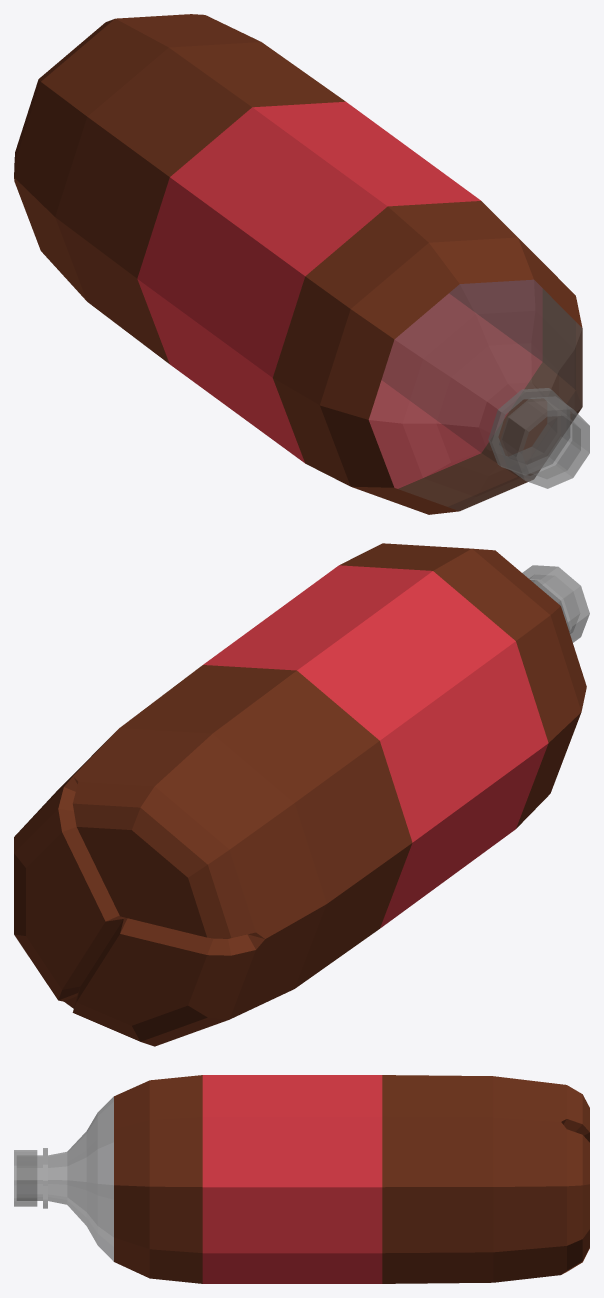
File: SodaBottle.fbx
3 views of the same model, one above another, from view 1: azimuth 30°, elevation 25°; view 2: azimuth 150°, elevation 25°; view 3: azimuth 270°, elevation 25° (orthographic). The views are drawn at different scales.
Visible parts, largest first — view 1: Object_2; view 2: Object_2; view 3: Object_2.
Part boxes in pixels (x1=…): Object_2: x1=14, y1=14, x2=589, y2=514; Object_2: x1=14, y1=543, x2=589, y2=1046; Object_2: x1=14, y1=1075, x2=589, y2=1283.
Bounding box in the file's own units: 1067 × 1083 × 2975.
